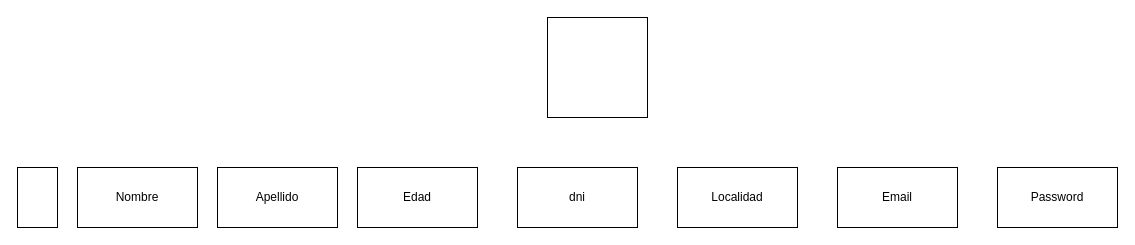
Image size: 1135x245. Some labels were removed from this diagram. Here are the shapes that lost their labels. From the top down, the centre of each, then its label:
pixel 597 67: usuarios
pixel 37 197: id
